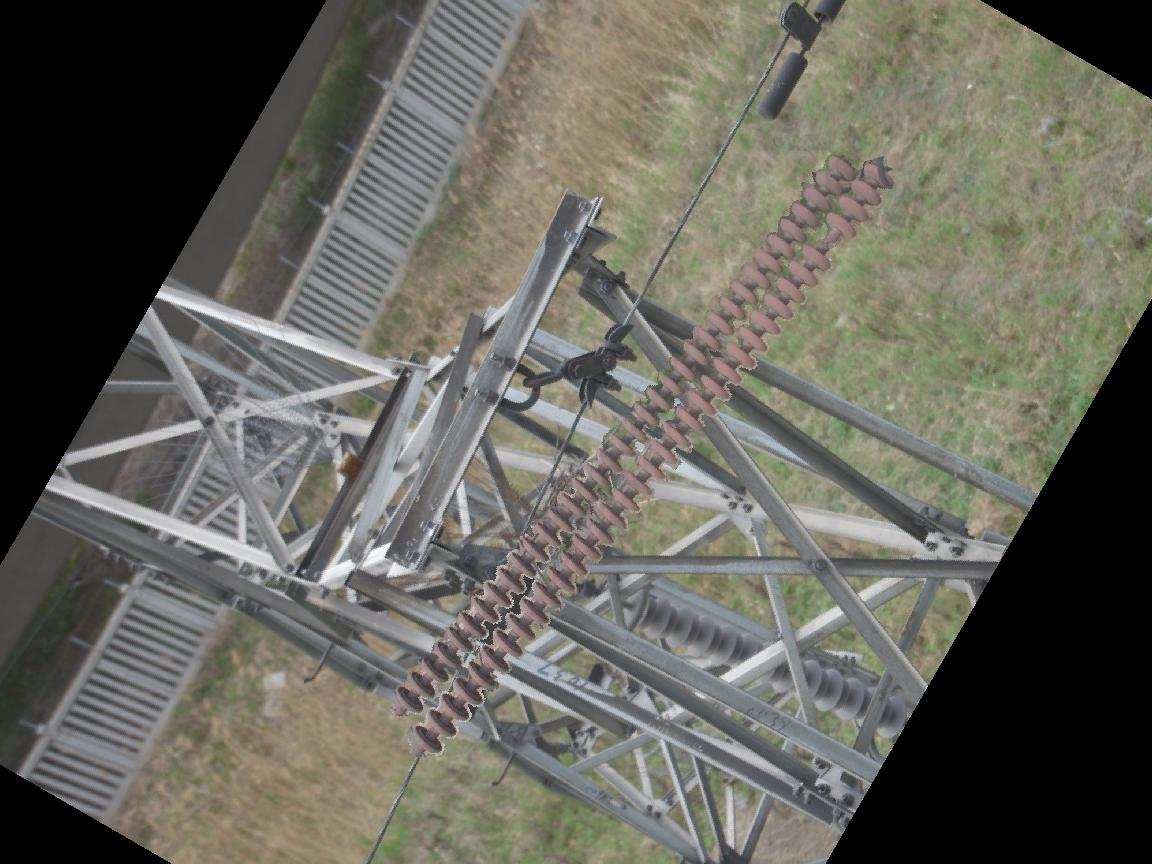insulator: (388, 147, 890, 762), (614, 589, 909, 737)
insulator_stringdrop: (798, 206, 862, 271)
